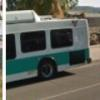buses: (5, 9, 92, 84)
